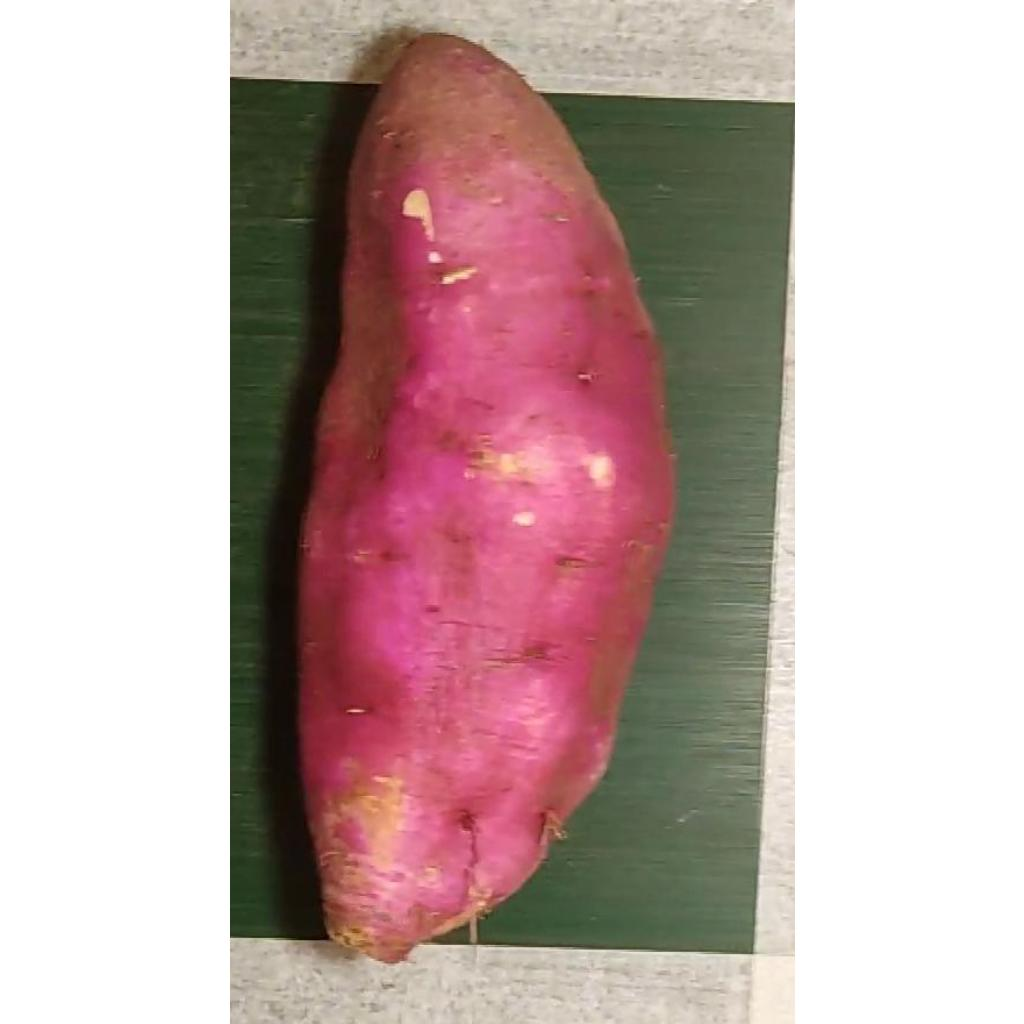Sweet Potato: (296, 34, 661, 968)
